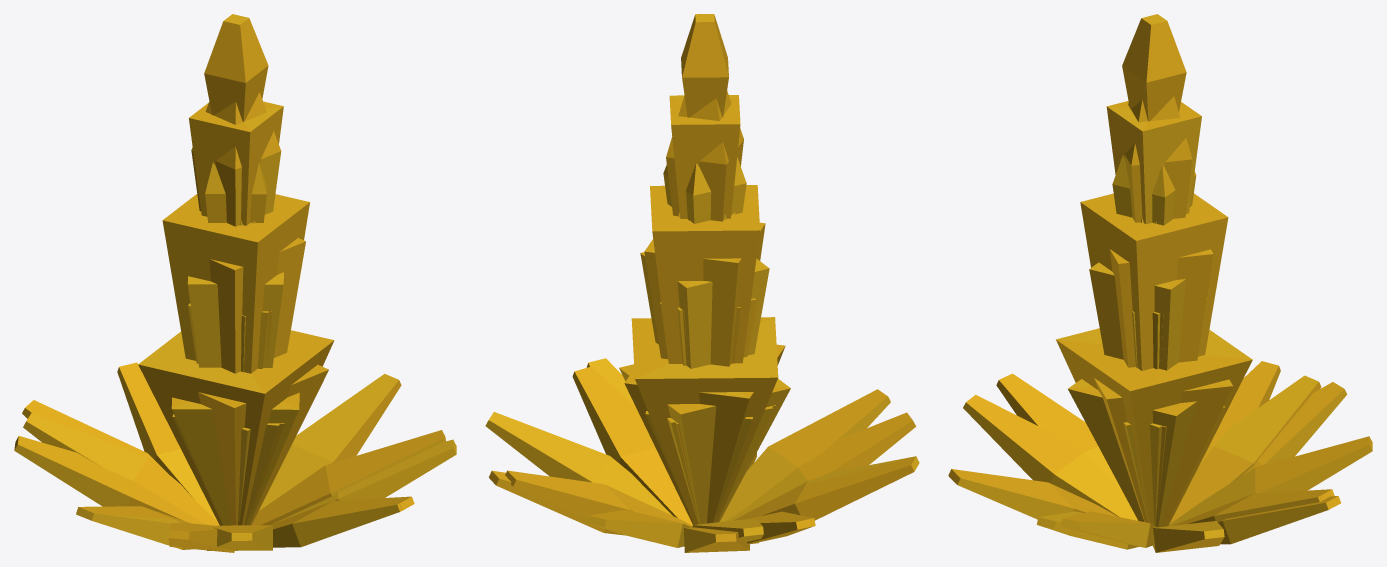
The model's file is muzzleflashes.fbx.
3 views of the same model, side by side, from view 1: azimuth 30°, elevation 25°; view 2: azimuth 150°, elevation 25°; view 3: azimuth 270°, elevation 25° (orthographic).
Visible parts, largest first — view 1: Muzzle1, Muzzle4, Muzzle5, Muzzle2, Muzzle6, Muzzle3; view 2: Muzzle1, Muzzle5, Muzzle4, Muzzle2, Muzzle6, Muzzle3; view 3: Muzzle1, Muzzle4, Muzzle2, Muzzle5, Muzzle6, Muzzle3.
Boxes of the visible parts, left/top/right/bottom form: Muzzle1: left=22, top=14, right=445, bottom=552; Muzzle4: left=77, top=162, right=456, bottom=549; Muzzle5: left=76, top=92, right=412, bottom=547; Muzzle2: left=23, top=219, right=401, bottom=550; Muzzle6: left=14, top=311, right=414, bottom=525; Muzzle3: left=172, top=221, right=279, bottom=525; Muzzle1: left=489, top=14, right=915, bottom=552; Muzzle5: left=505, top=90, right=915, bottom=526; Muzzle4: left=586, top=157, right=919, bottom=547; Muzzle2: left=485, top=212, right=890, bottom=543; Muzzle6: left=506, top=297, right=815, bottom=544; Muzzle3: left=667, top=212, right=773, bottom=524; Muzzle1: left=996, top=14, right=1347, bottom=547; Muzzle4: left=1036, top=155, right=1372, bottom=549; Muzzle2: left=963, top=214, right=1321, bottom=552; Muzzle5: left=948, top=96, right=1332, bottom=526; Muzzle6: left=949, top=313, right=1334, bottom=525; Muzzle3: left=1149, top=221, right=1162, bottom=525.
Bounding box in the file's own units: 138 × 183 × 136.
